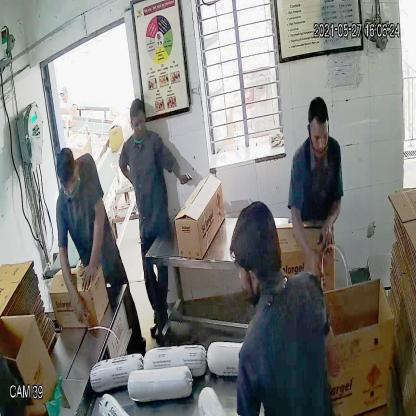no_goggles: (303, 126, 328, 144)
